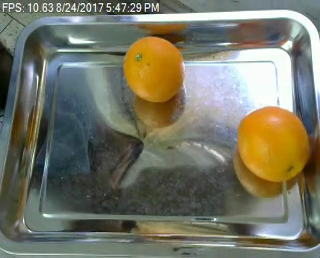Orange: (236, 105, 311, 181), (123, 36, 185, 103)
